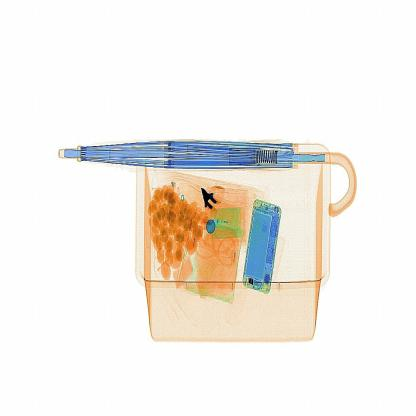gun: (191, 176, 237, 231)
